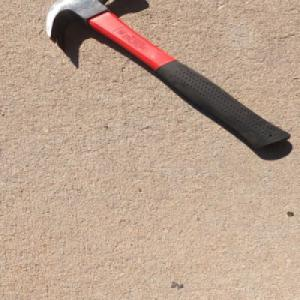Hammer: (42, 0, 294, 152)
